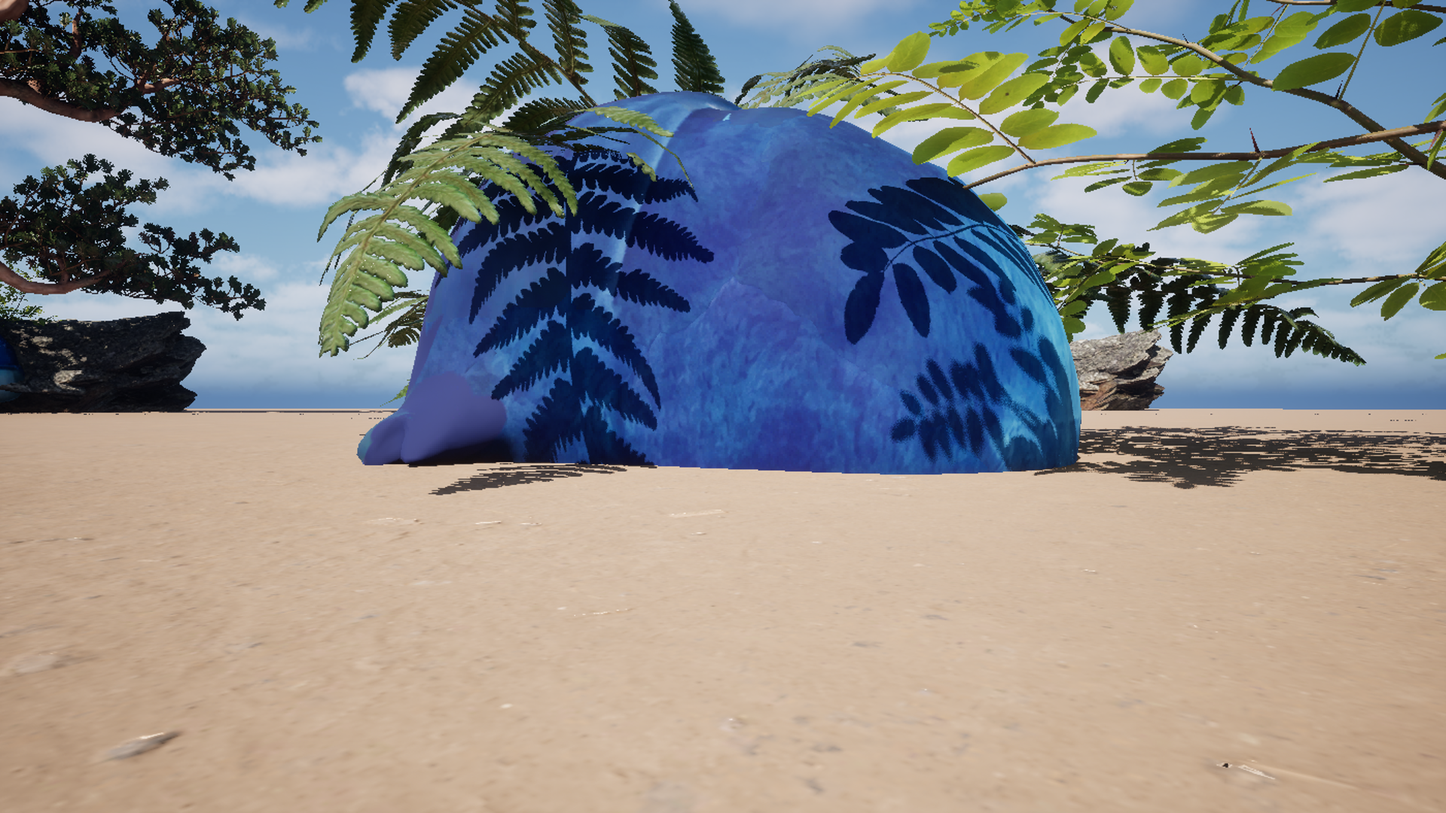Piplup: (266, 0, 1118, 813)
